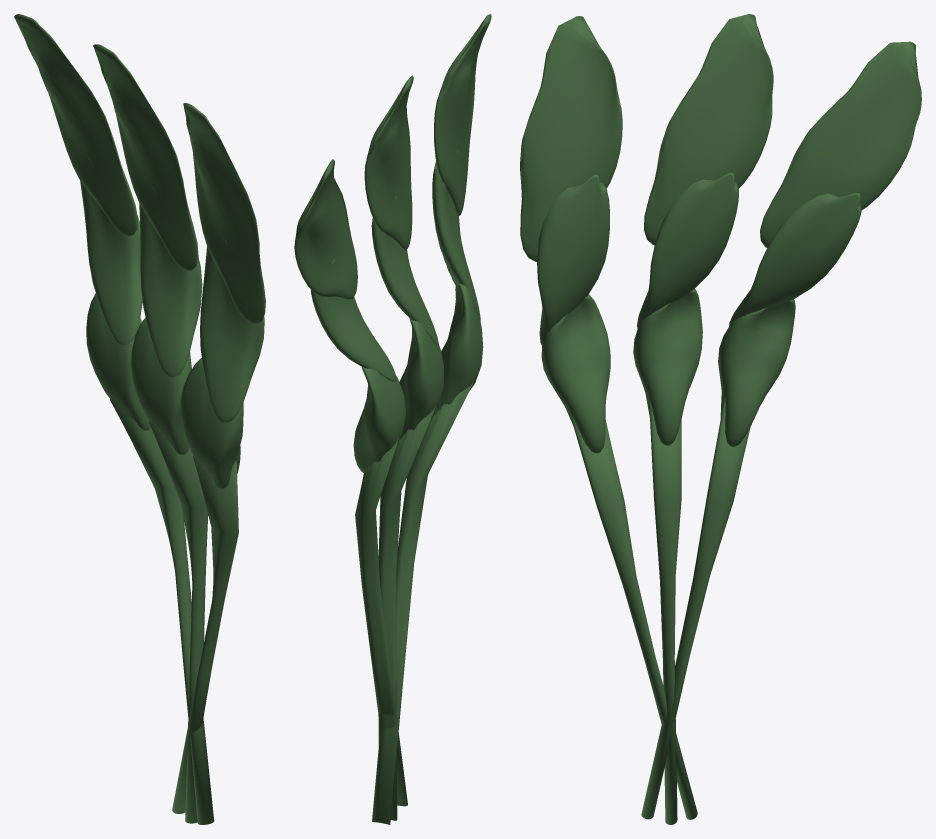
Rendered from Algue 02.fbx.
The picture shows the model from 3 angles, left to right: view 1: azimuth 30°, elevation 25°; view 2: azimuth 150°, elevation 25°; view 3: azimuth 270°, elevation 25°; orthographic projection. The views are drawn at different scales.
Visible parts, largest first — view 1: algue solo.003; view 2: algue solo.003; view 3: algue solo.003.
Boxes of the visible parts, left/top/right/bottom form: algue solo.003: left=14, top=14, right=265, bottom=824; algue solo.003: left=294, top=14, right=491, bottom=824; algue solo.003: left=520, top=14, right=921, bottom=824.
Bounding box in the file's own units: 0.8529 × 8.77 × 4.1.
